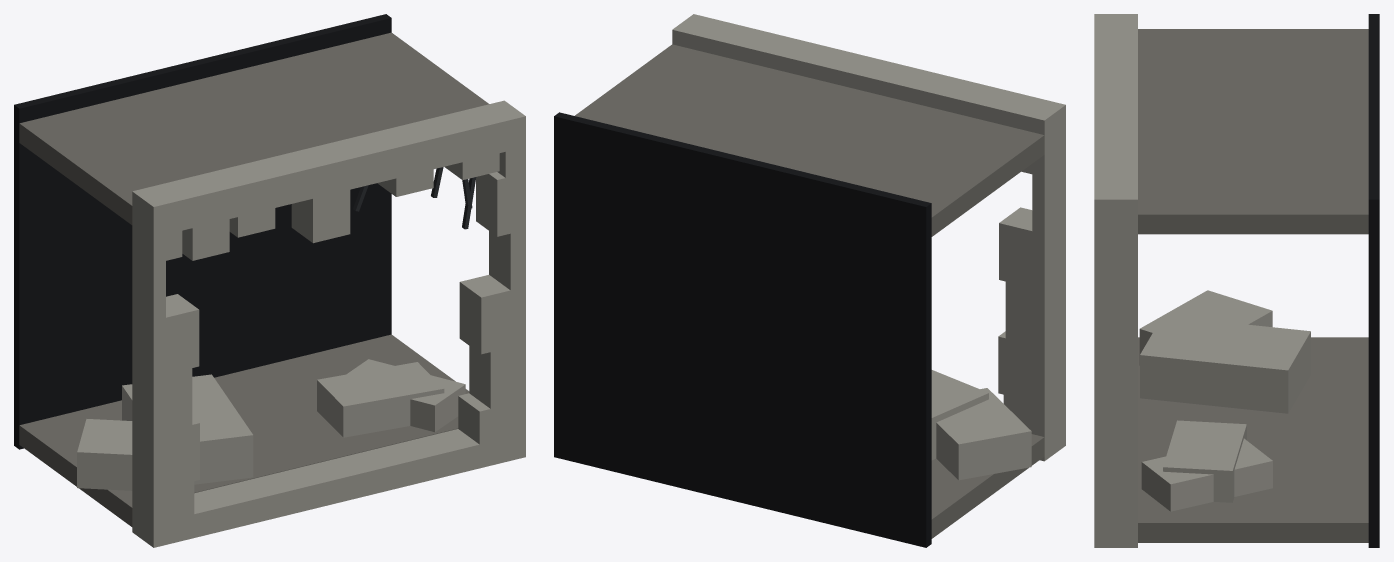
The model's file is cc_hole.glb.
3 views of the same model, side by side, from view 1: azimuth 30°, elevation 25°; view 2: azimuth 150°, elevation 25°; view 3: azimuth 270°, elevation 25° (orthographic). The views are drawn at different scales.
Visible parts, largest first — view 1: city_cc_hole; view 2: city_cc_hole; view 3: city_cc_hole.
Boxes of the visible parts, box(x1,y1,x2,y2) form: city_cc_hole: box(14, 14, 525, 547); city_cc_hole: box(554, 14, 1065, 547); city_cc_hole: box(1094, 14, 1379, 547).
Size of the model in its own units: 4.23 by 3.5 by 2.6.
2 materials, 2 textured.
